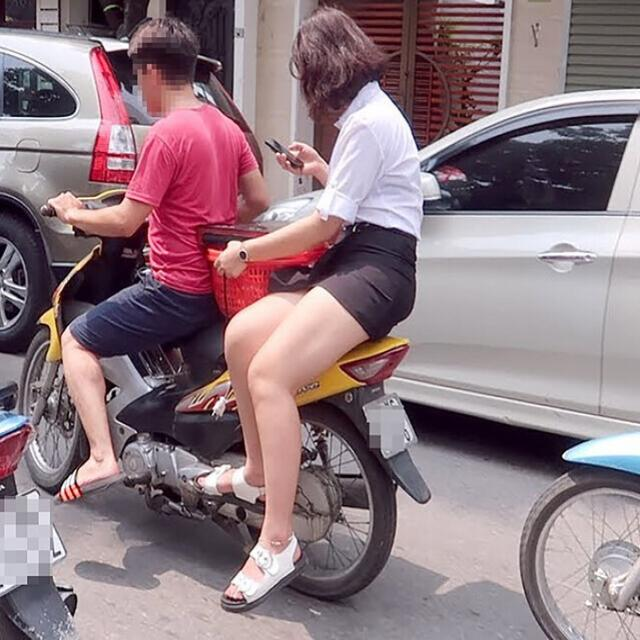no_helmet: (275, 4, 401, 108)
